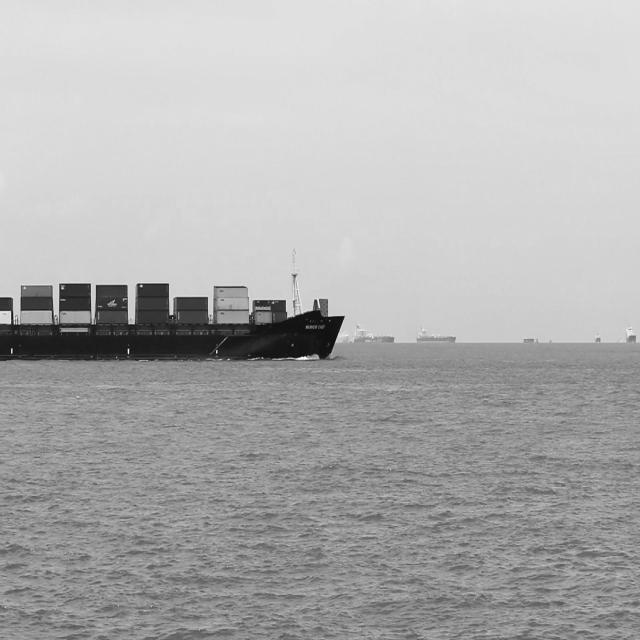ship: (0, 243, 347, 361), (356, 316, 398, 344), (415, 322, 462, 344), (622, 319, 640, 347), (522, 328, 542, 351), (336, 323, 353, 347), (593, 325, 607, 345)
